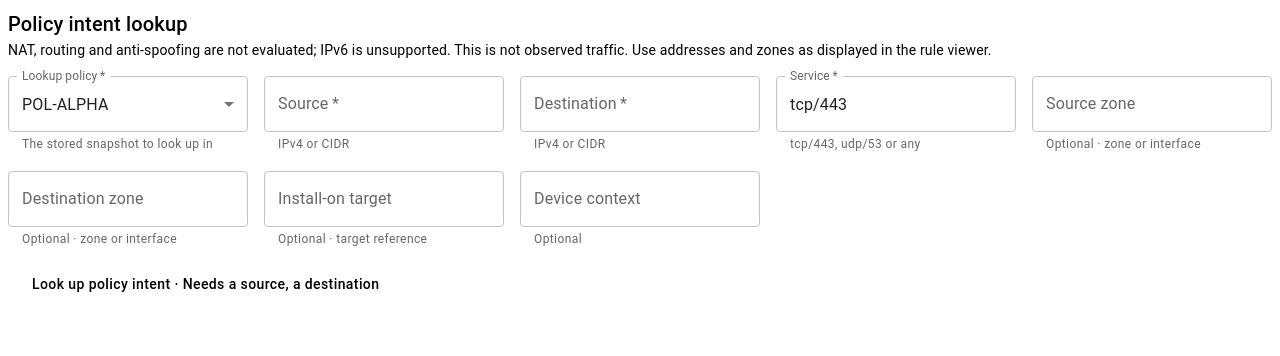
Test case: reports rate limits, retries and never fabricates a result on failures
The image size is (1280, 356).
Type "192.0.2.8" into the field labelled "Source *" at (384, 104), box 264,76 -> 504,132
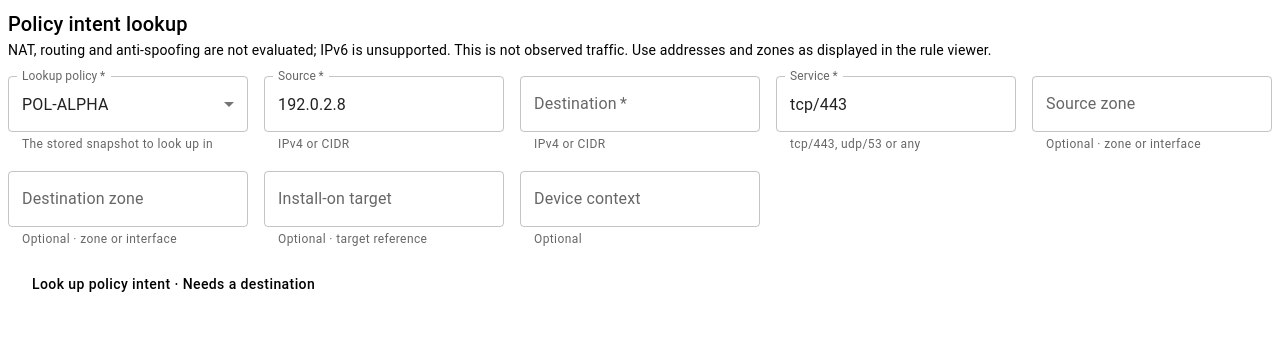
Type "198.51.100.8" into the field labelled "Destination *" at (640, 104), box 520,76 -> 760,132
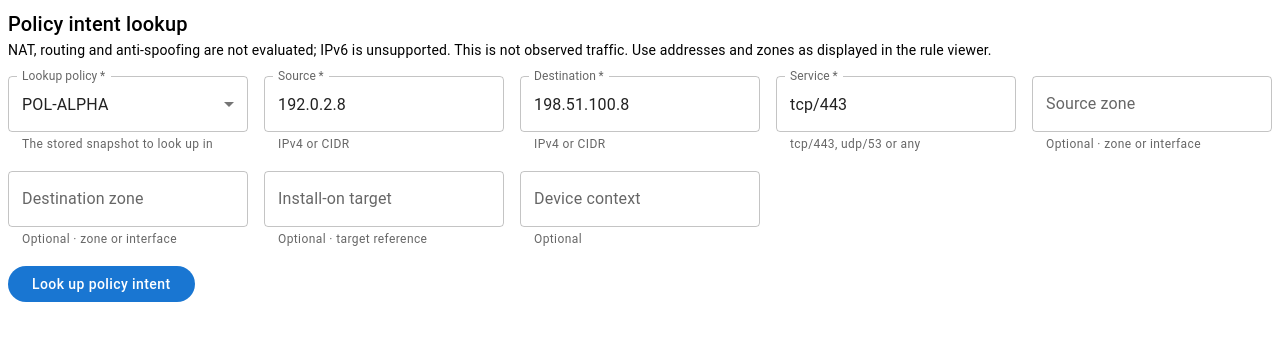
Click the button "Look up policy intent" at (101, 284), box 8,266 -> 194,302
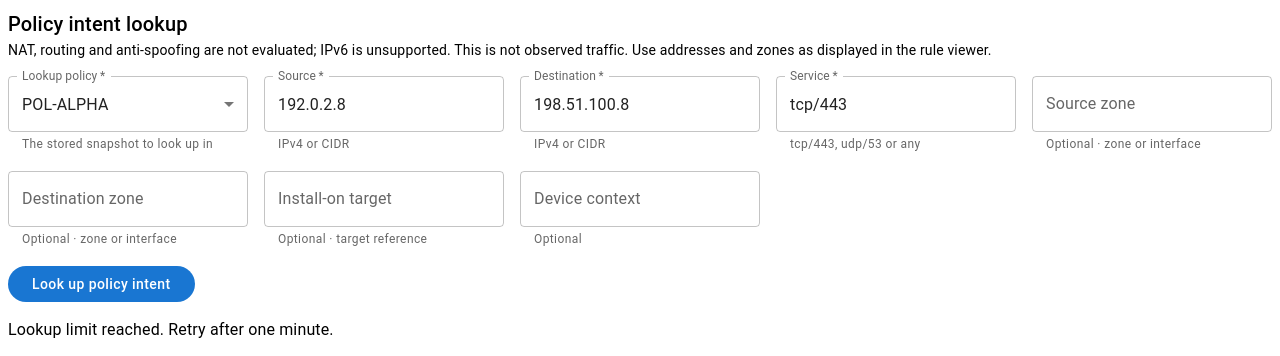
Now the message shows "Retry after one minute", box 8,320 -> 334,339
Click the button "Look up policy intent" at (101, 284), box 8,266 -> 194,302
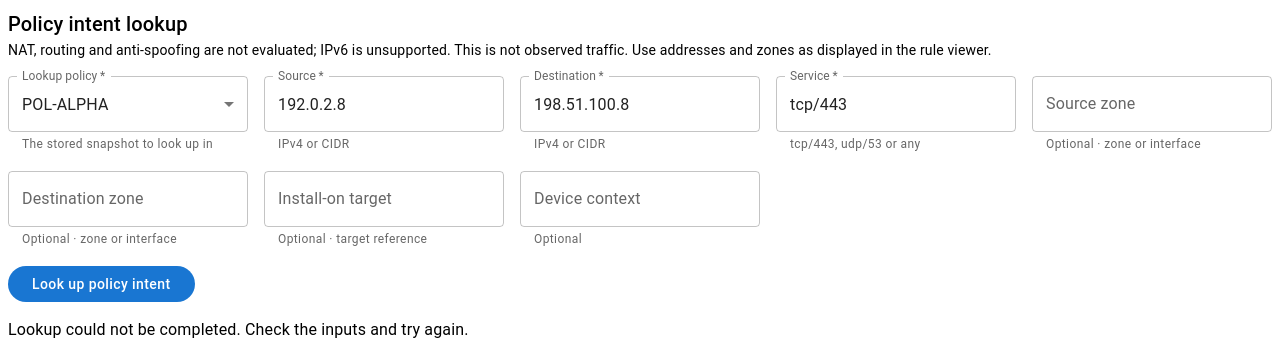
Now the message shows "could not be completed", box 8,320 -> 468,339
